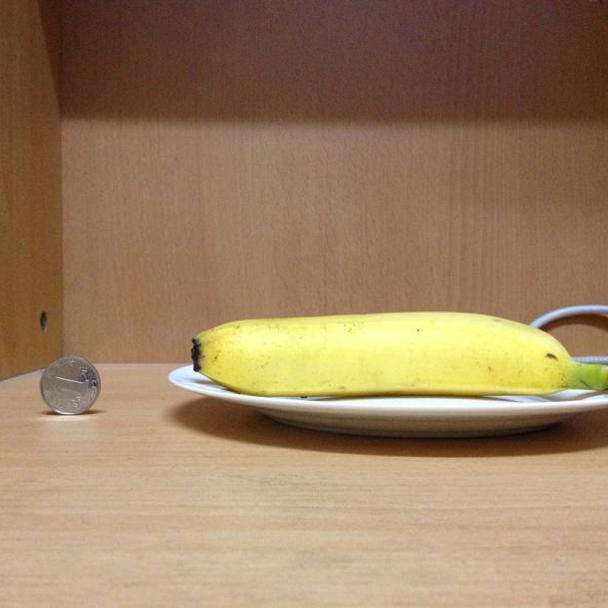banana: (186, 310, 608, 403)
